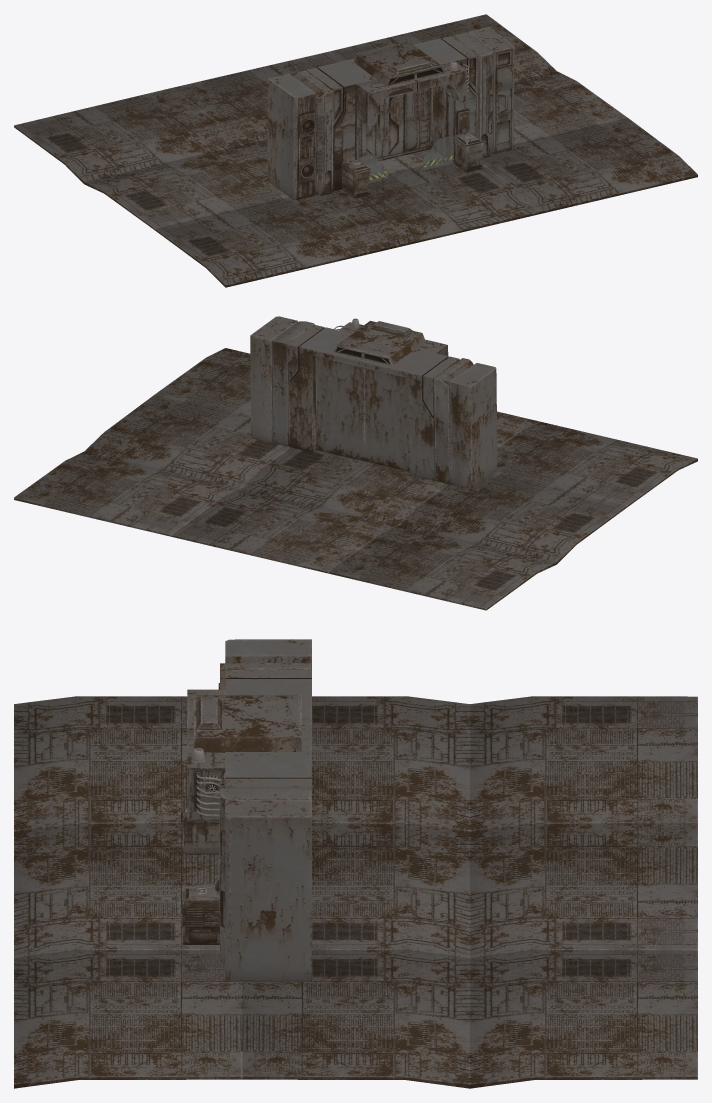
File: bunker.glb
The picture shows the model from 3 angles, top to bottom: view 1: azimuth 30°, elevation 25°; view 2: azimuth 150°, elevation 25°; view 3: azimuth 270°, elevation 25°; orthographic projection. The views are drawn at different scales.
Visible parts, largest first — view 1: floor_low_Floor_0, flat_low_Gate_0, flat_low_Floor_0, Gateright_low_Gate_0, Gateleft_low_Gate_0; view 2: floor_low_Floor_0, flat_low_Gate_0, Gateright_low_Gate_0, Gateleft_low_Gate_0, flat_low_Floor_0; view 3: floor_low_Floor_0, flat_low_Gate_0, flat_low_Floor_0.
Boxes of the visible parts, <box> form: floor_low_Floor_0: <box>14,14,697,287</box>; flat_low_Gate_0: <box>267,27,514,199</box>; flat_low_Floor_0: <box>290,32,469,182</box>; Gateright_low_Gate_0: <box>382,87,432,159</box>; Gateleft_low_Gate_0: <box>356,99,384,163</box>; floor_low_Floor_0: <box>14,348,697,610</box>; flat_low_Gate_0: <box>250,316,497,489</box>; Gateright_low_Gate_0: <box>315,356,364,461</box>; Gateleft_low_Gate_0: <box>364,367,409,471</box>; flat_low_Floor_0: <box>272,318,450,483</box>; floor_low_Floor_0: <box>14,696,697,1088</box>; flat_low_Gate_0: <box>181,639,311,981</box>; flat_low_Floor_0: <box>189,695,301,894</box>.
Bounding box in the file's own units: 26 × 6.52 × 20.17.
2 materials, 2 textured.
